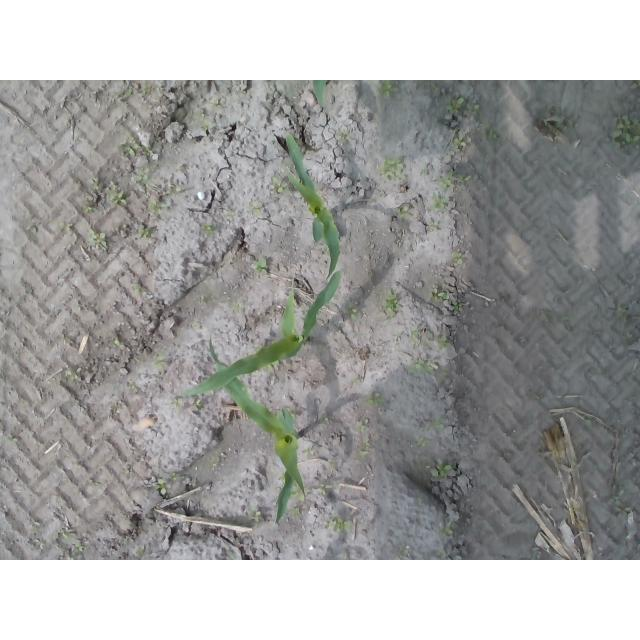Maize: (184, 269, 342, 397), (206, 337, 306, 523), (283, 133, 341, 282), (312, 80, 329, 110)
Weeds: (605, 111, 640, 145), (614, 301, 640, 345), (430, 286, 463, 314), (433, 168, 473, 189), (353, 417, 370, 460), (478, 120, 506, 144), (446, 97, 481, 116), (378, 158, 408, 180), (424, 461, 450, 482), (382, 287, 398, 321), (327, 514, 353, 534), (60, 530, 84, 551), (89, 225, 108, 248), (408, 358, 433, 375), (107, 186, 128, 205), (120, 135, 138, 157), (541, 311, 575, 322), (154, 477, 172, 496), (142, 201, 168, 214), (378, 82, 397, 99), (431, 190, 448, 208), (195, 110, 210, 130), (342, 304, 359, 321), (607, 489, 625, 504), (366, 392, 384, 407), (136, 168, 152, 184), (440, 522, 456, 538), (291, 483, 305, 501), (272, 176, 285, 193), (416, 436, 433, 449), (89, 177, 103, 192), (253, 258, 267, 273), (319, 483, 334, 497), (433, 415, 443, 435), (65, 367, 79, 381), (451, 135, 465, 149), (433, 335, 447, 349), (248, 510, 262, 523), (81, 202, 95, 215), (199, 223, 213, 236), (152, 355, 165, 369), (450, 251, 462, 266), (166, 187, 182, 197), (138, 226, 150, 239), (3, 433, 17, 444), (399, 205, 410, 219), (169, 398, 183, 409), (302, 446, 314, 458), (191, 400, 202, 412), (320, 415, 333, 425), (210, 99, 221, 110), (60, 221, 71, 231), (407, 327, 417, 338), (434, 552, 446, 561), (111, 339, 121, 349), (142, 147, 152, 156), (629, 80, 640, 88), (269, 361, 280, 368), (132, 287, 140, 296), (292, 508, 300, 517), (127, 86, 133, 96), (208, 462, 217, 468), (172, 472, 177, 480)
